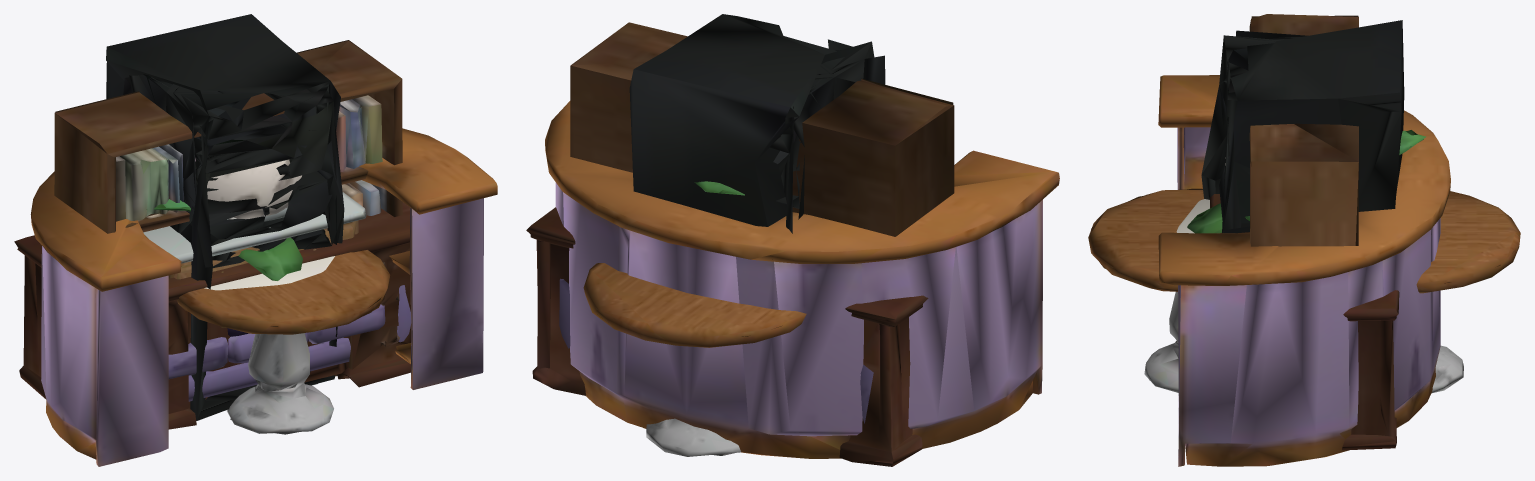
The model's file is office-props-floor-1.0ffcdbdb.glb.
3 renders of one model, left to right at view 1: azimuth 30°, elevation 25°; view 2: azimuth 150°, elevation 25°; view 3: azimuth 270°, elevation 25°, orthographic. The views are drawn at different scales.
Parts seen in each view (by area): view 1: reception-desk, server-rack, bookshelf, meeting-table, exec-desk, sofa, pantry-counter, floor-lamp, floor-plant, round-table; view 2: reception-desk, server-rack, bookshelf, exec-desk, meeting-table, sofa; view 3: reception-desk, server-rack, meeting-table, bookshelf, exec-desk, floor-plant.
Part boxes in pixels (left/top/right/bottom): reception-desk: left=30, top=128, right=497, bottom=466; server-rack: left=106, top=14, right=344, bottom=420; bookshelf: left=54, top=40, right=402, bottom=233; meeting-table: left=177, top=250, right=390, bottom=434; exec-desk: left=14, top=202, right=411, bottom=429; sofa: left=168, top=285, right=411, bottom=401; pantry-counter: left=143, top=192, right=366, bottom=376; floor-lamp: left=207, top=159, right=301, bottom=219; floor-plant: left=146, top=199, right=302, bottom=280; round-table: left=204, top=256, right=334, bottom=290; reception-desk: left=545, top=101, right=1059, bottom=458; server-rack: left=629, top=14, right=885, bottom=233; bookshelf: left=570, top=22, right=954, bottom=236; exec-desk: left=526, top=207, right=928, bottom=466; meeting-table: left=583, top=263, right=806, bottom=456; sofa: left=559, top=278, right=873, bottom=423; reception-desk: left=1158, top=75, right=1450, bottom=466; server-rack: left=1201, top=20, right=1404, bottom=233; meeting-table: left=1088, top=188, right=1520, bottom=392; bookshelf: left=1249, top=14, right=1358, bottom=246; exec-desk: left=1210, top=194, right=1399, bottom=450; floor-plant: left=1187, top=130, right=1426, bottom=233.
Bounding box in the file's own units: 2.26 × 1.7 × 2.05.
34 materials, 28 textured.
